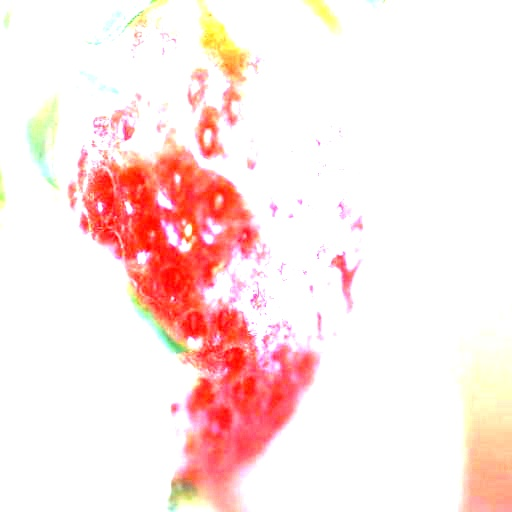Powdery Mildew Fruit: (27, 0, 388, 375)
